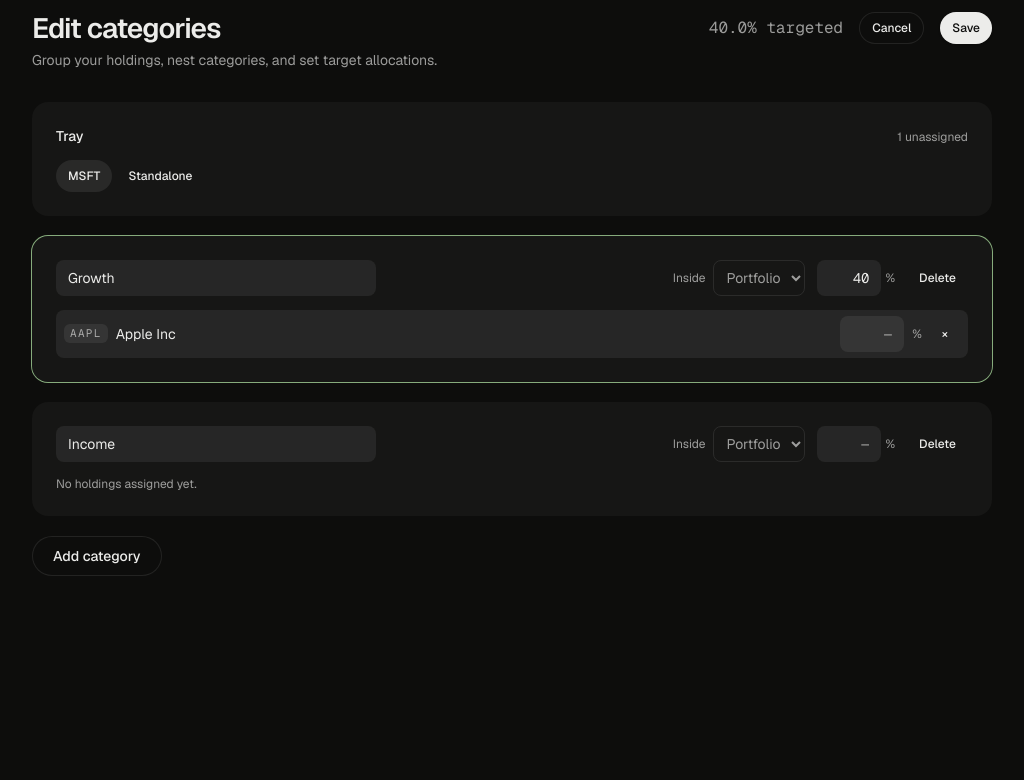
Test: CategoriesEditor — nesting › counts only root-level targets toward the headline sum
The image size is (1024, 780).
Type "25" into the field named "Target for Income" at coordinates (850, 444), box [818,426,882,462]
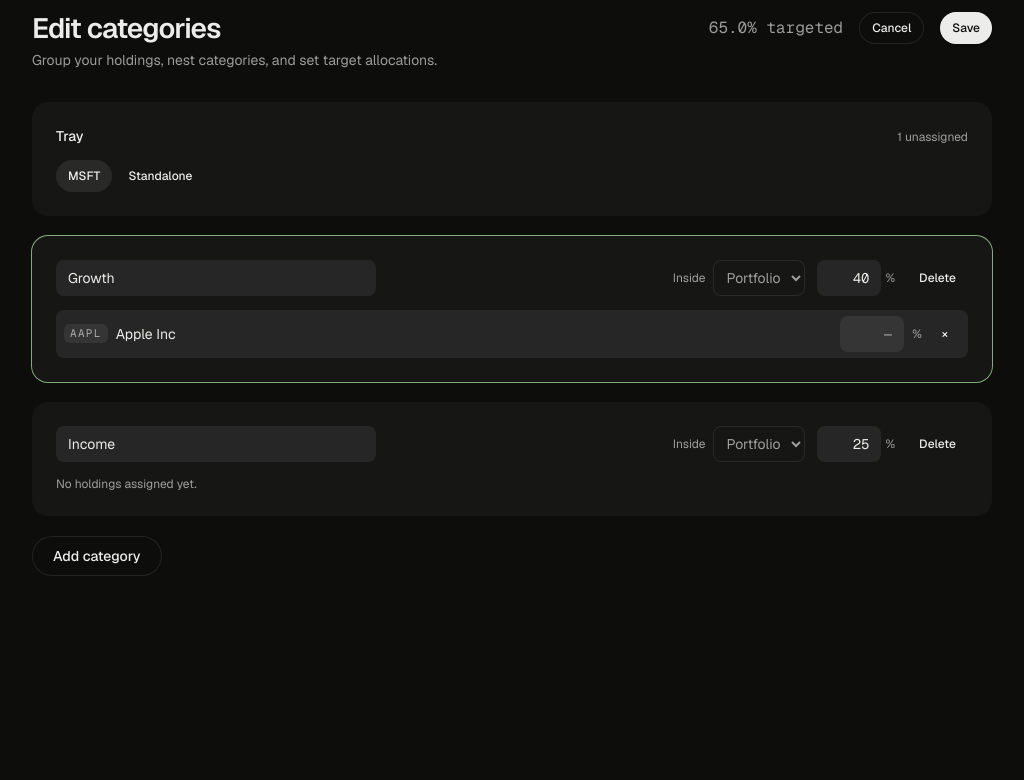
Expected: the text "65.0% targeted" is shown, [709,16,843,40]
Note: Nested, Income's 25% is a share of Growth — not of the portfolio.
Select "Growth" in the dropdown named "Parent of Income" at coordinates (760, 444), box [714,426,806,462]
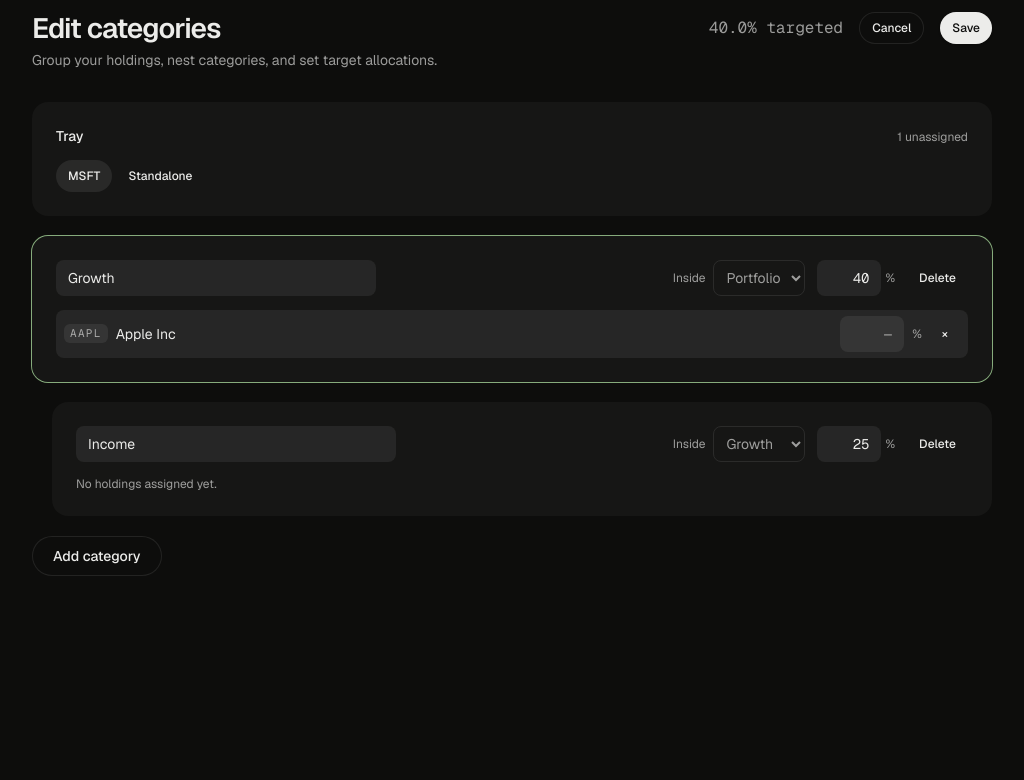
Expected: the text "40.0% targeted" is shown, [709,16,843,40]
